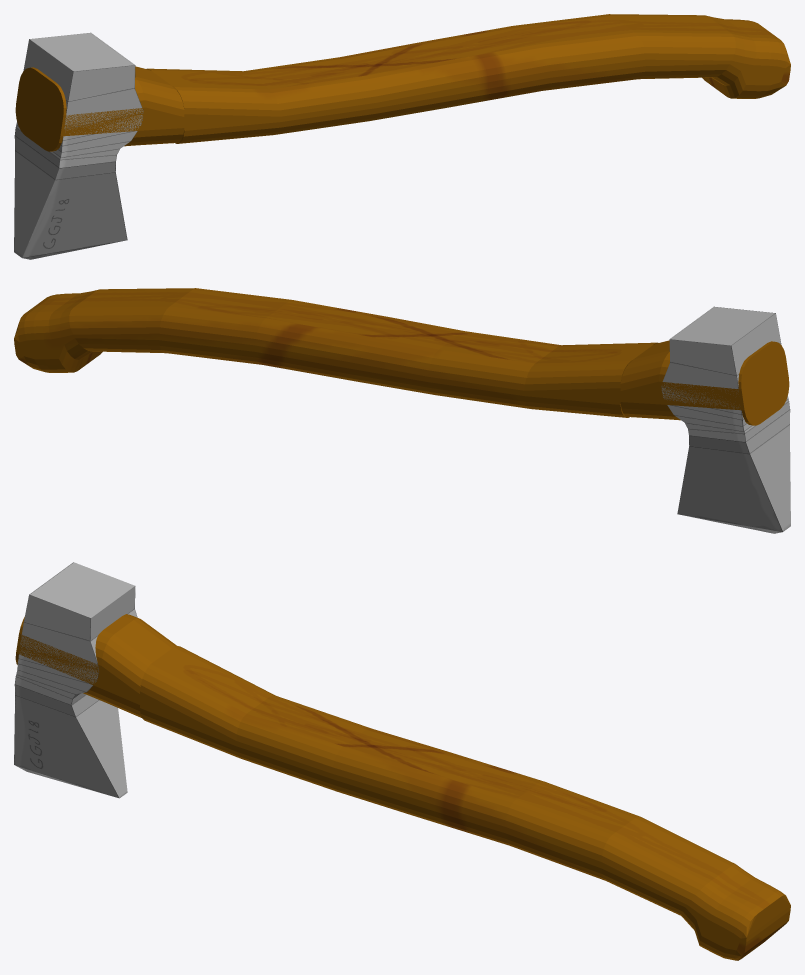
The model's file is axe.obj.
3 renders of one model, top to bottom at view 1: azimuth 30°, elevation 25°; view 2: azimuth 150°, elevation 25°; view 3: azimuth 330°, elevation 25°, orthographic.
Parts seen in each view (by area): view 1: Cube_Cube.001; view 2: Cube_Cube.001; view 3: Cube_Cube.001.
Part boxes in pixels (<box>): Cube_Cube.001: <box>14,14,790,259</box>; Cube_Cube.001: <box>14,288,790,533</box>; Cube_Cube.001: <box>14,562,790,960</box>.
Bounding box in the file's own units: 1.95 × 0.5013 × 0.2.
Materials: 2 (2 with a texture image).
